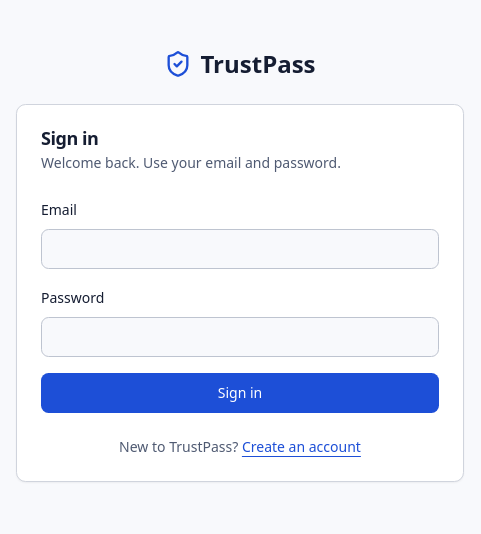
Scenario: LoginPage › shows the server message when the credentials are wrong
Type "mia@example.test" into the field labelled "Email" at [240, 249], box x1=41 y1=229 x2=439 y2=269
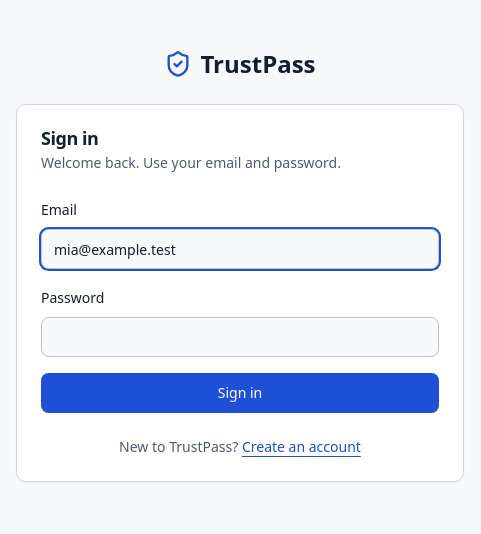
Type "wrong" into the password field labelled "Password" at [240, 337], box x1=41 y1=317 x2=439 y2=357
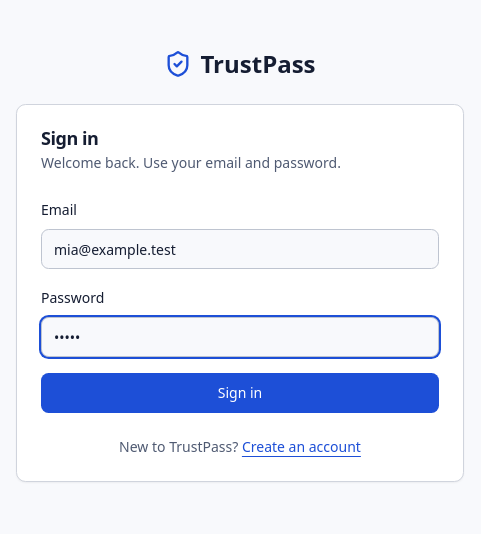
Click the button "Sign in" at [240, 393], box x1=41 y1=373 x2=439 y2=413
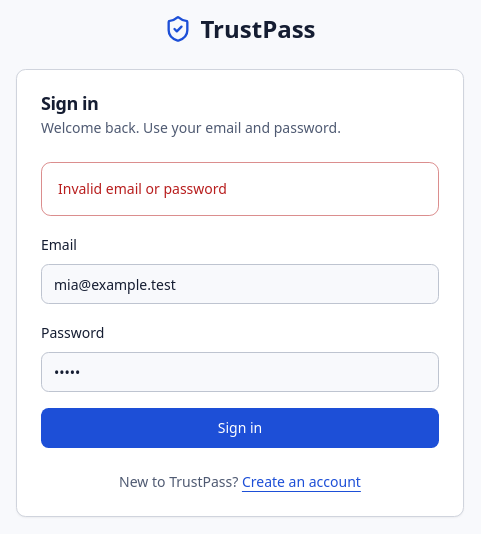
Expected: the message reads "Invalid email or password", x1=58 y1=179 x2=227 y2=198
